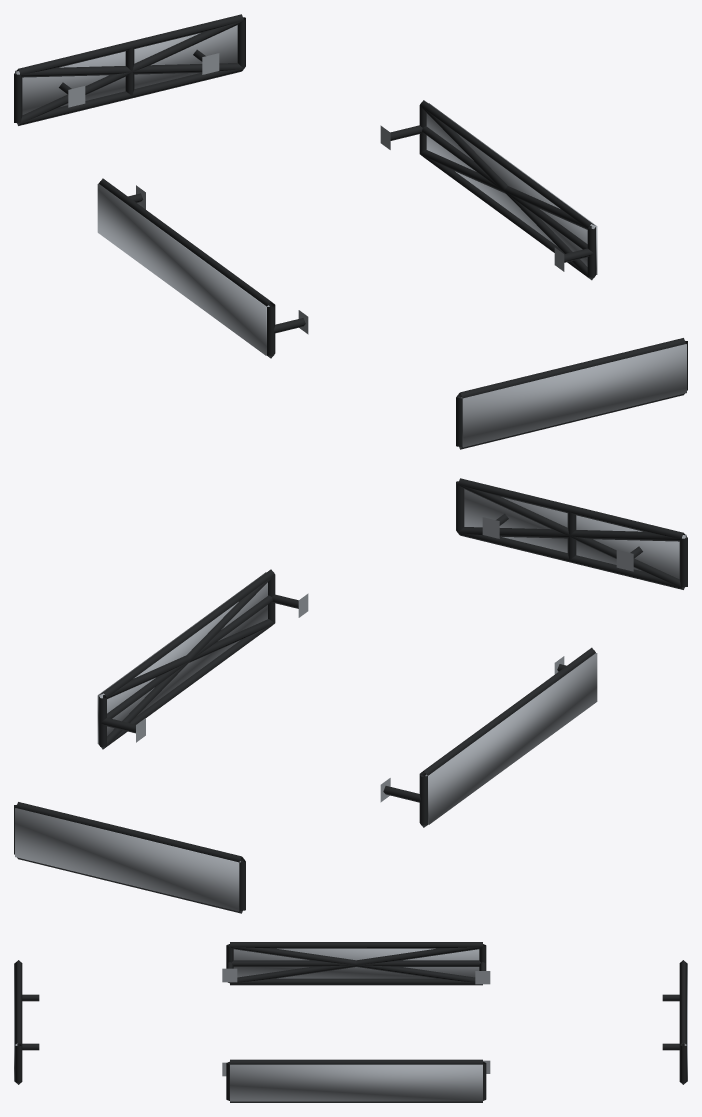
The model's file is whitlock_carreiro_protecao.glb.
3 renders of one model, top to bottom at view 1: azimuth 30°, elevation 25°; view 2: azimuth 150°, elevation 25°; view 3: azimuth 270°, elevation 25°, orthographic. The views are drawn at different scales.
Parts seen in each view (by area): view 1: Protection_front_Level3_Details, Protection_left_Level3_Details, Protection_rear_Level1_Details, Protection_rear_Level3_Details, Protection_right_Level1_Details, Protection_right_Level2_Details, Protection_rear_Level2_Details, Protection_right_Level3_Details, Protection_left_Level1_Details, Protection_front_Level1_Details; view 2: Protection_rear_Level3_Details, Protection_left_Level3_Details, Protection_front_Level1_Details, Protection_front_Level3_Details, Protection_right_Level1_Details, Protection_right_Level2_Details, Protection_front_Level2_Details, Protection_right_Level3_Details, Protection_left_Level1_Details, Protection_rear_Level1_Details; view 3: Protection_right_Level3_Details, Protection_left_Level2_Details, Protection_left_Level1_Details, Protection_left_Level3_Details, Protection_right_Level1_Details, Protection_rear_Level1_Details, Protection_front_Level1_Details.
Boxes of the visible parts, box(x1,y1,x2,y2) form: Protection_front_Level3_Details: box(461, 344, 686, 447); Protection_left_Level3_Details: box(97, 183, 269, 355); Protection_rear_Level1_Details: box(14, 14, 245, 125); Protection_rear_Level3_Details: box(15, 25, 237, 115); Protection_right_Level1_Details: box(380, 100, 595, 280); Protection_right_Level2_Details: box(420, 106, 594, 279); Protection_rear_Level2_Details: box(16, 20, 243, 125); Protection_right_Level3_Details: box(426, 103, 597, 274); Protection_left_Level1_Details: box(99, 178, 308, 358); Protection_front_Level1_Details: box(456, 338, 687, 449); Protection_rear_Level3_Details: box(15, 808, 240, 911); Protection_left_Level3_Details: box(425, 653, 597, 824); Protection_front_Level1_Details: box(456, 478, 687, 589); Protection_front_Level3_Details: box(464, 489, 686, 579); Protection_right_Level1_Details: box(98, 569, 308, 749); Protection_right_Level2_Details: box(100, 576, 274, 749); Protection_front_Level2_Details: box(458, 484, 685, 589); Protection_right_Level3_Details: box(97, 572, 267, 744); Protection_left_Level1_Details: box(380, 647, 595, 827); Protection_rear_Level1_Details: box(14, 802, 245, 913); Protection_right_Level3_Details: box(230, 1064, 482, 1101); Protection_left_Level2_Details: box(229, 944, 481, 983); Protection_left_Level1_Details: box(222, 942, 490, 985); Protection_left_Level3_Details: box(233, 948, 479, 978); Protection_right_Level1_Details: box(222, 1059, 490, 1102); Protection_rear_Level1_Details: box(662, 960, 686, 1084); Protection_front_Level1_Details: box(15, 960, 39, 1084).
Size of the model in its own units: 2.14 by 0.354 by 5.01.
1 material, 1 textured.
